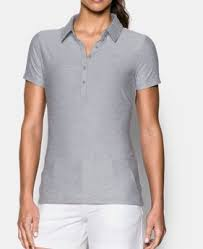S_polo shirt: (13, 14, 176, 217)
